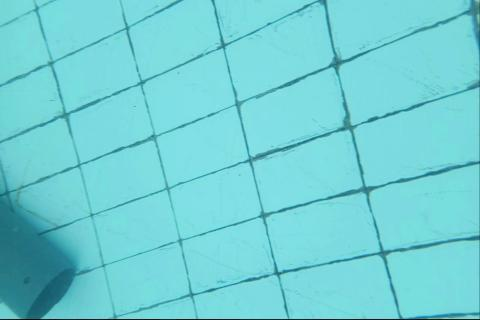kebocoran: (22, 275, 30, 284)
